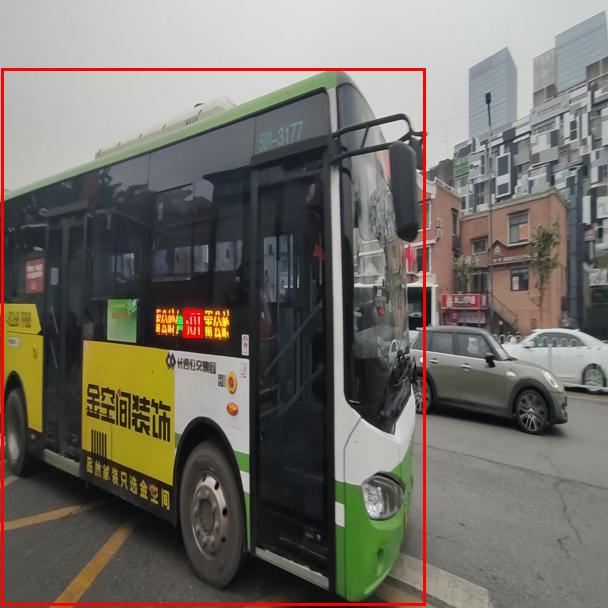bus: (1, 68, 425, 605)
screen: (183, 310, 202, 337)
